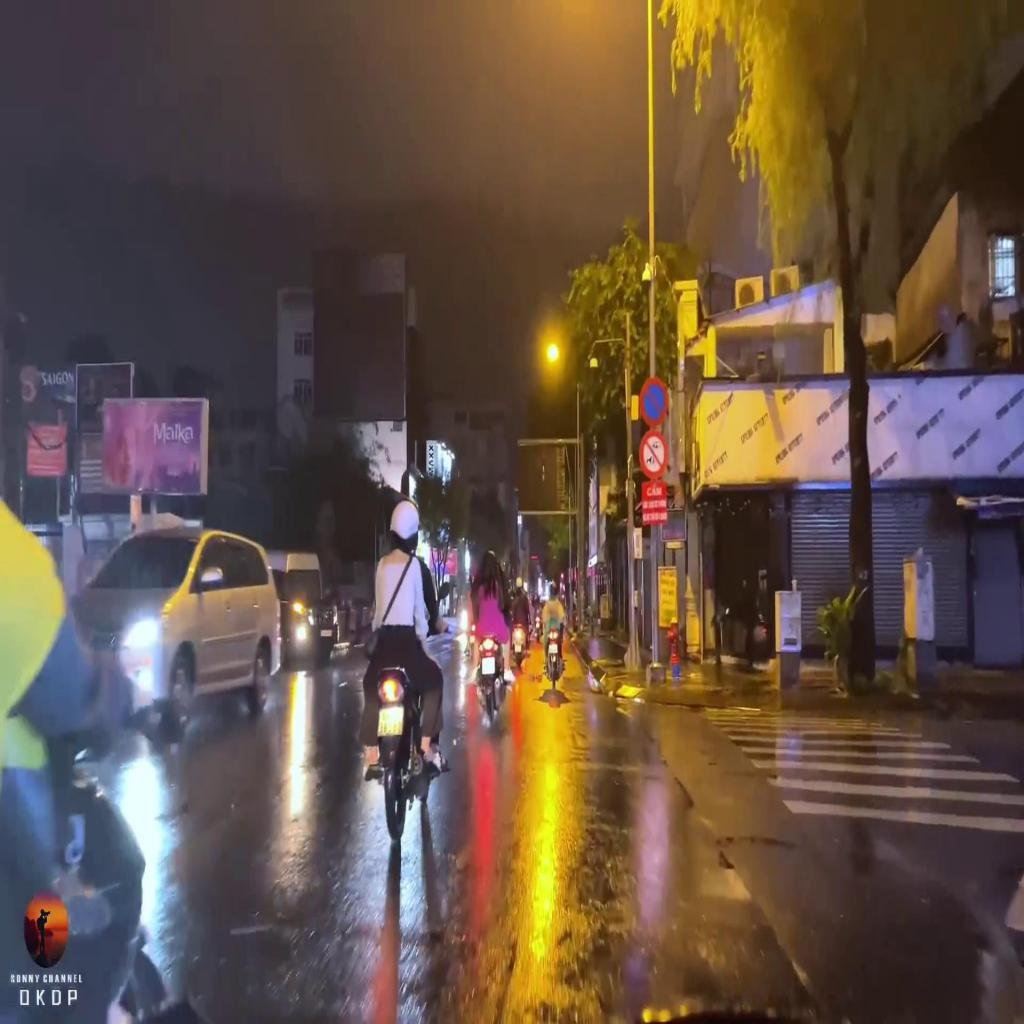cam_cac_loai_xe_3_banh: (640, 428, 669, 480)
cam_do_xe: (639, 376, 669, 428)
